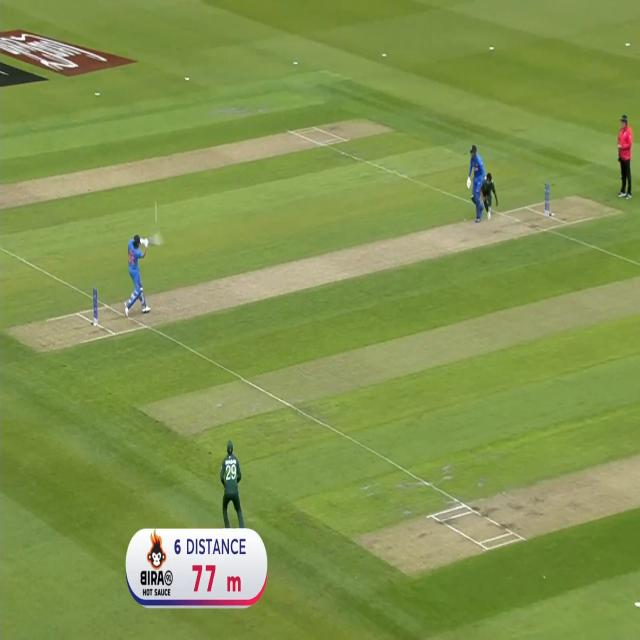ball: (151, 200, 163, 230)
